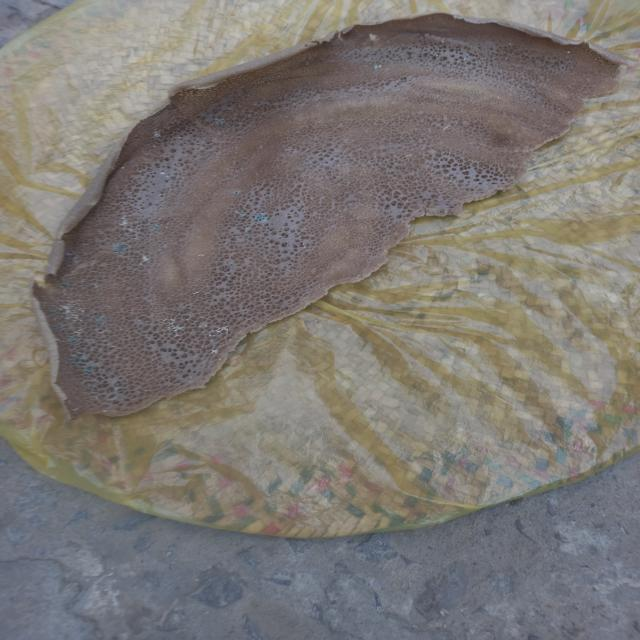injera_mold: (161, 318, 186, 336), (60, 304, 84, 322), (207, 326, 231, 336), (120, 216, 135, 232), (112, 243, 130, 252), (140, 255, 150, 265), (255, 214, 267, 222), (233, 210, 246, 217), (82, 367, 94, 374), (68, 336, 78, 344), (74, 355, 85, 362), (95, 317, 106, 324), (74, 329, 85, 336), (214, 118, 224, 125), (48, 308, 58, 314), (153, 131, 161, 138), (210, 349, 220, 354), (373, 65, 383, 70), (61, 280, 69, 286), (92, 283, 100, 289), (54, 322, 63, 327), (233, 190, 242, 195), (71, 407, 79, 412), (152, 225, 160, 230), (118, 390, 126, 394), (192, 291, 200, 295), (102, 409, 108, 413), (65, 253, 73, 256), (162, 244, 168, 248), (160, 171, 166, 175), (197, 254, 204, 257), (245, 228, 250, 232), (166, 175, 170, 178), (120, 167, 125, 169)
